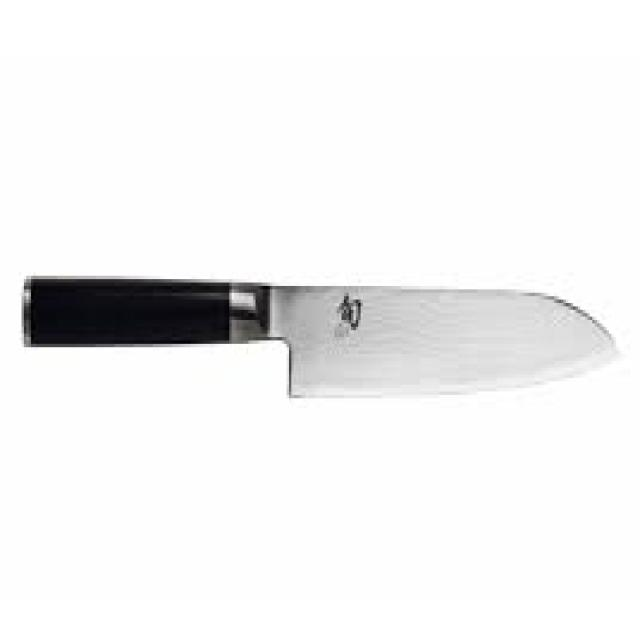knives: (17, 266, 621, 405)
